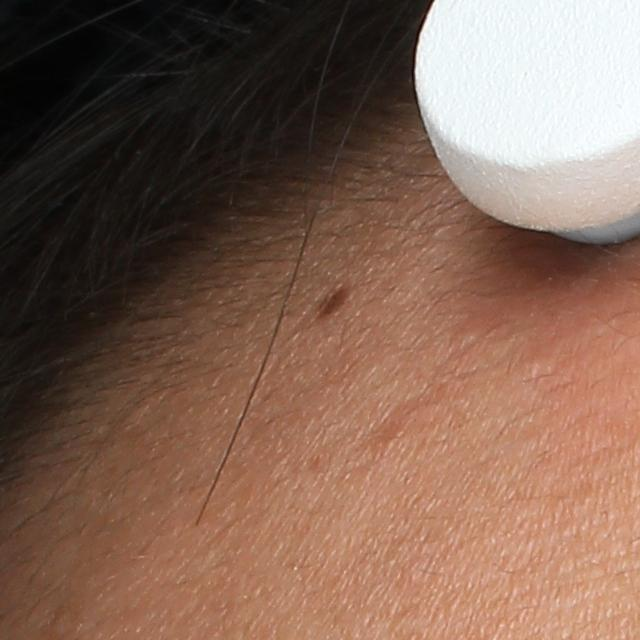nevus: (314, 281, 359, 321)
